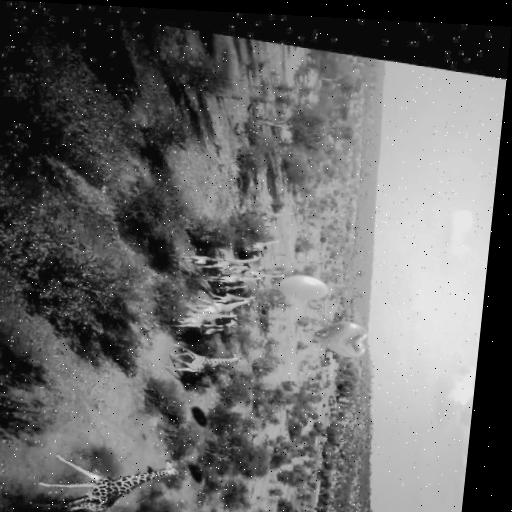balloon: (305, 309, 364, 350), (269, 264, 325, 297)
